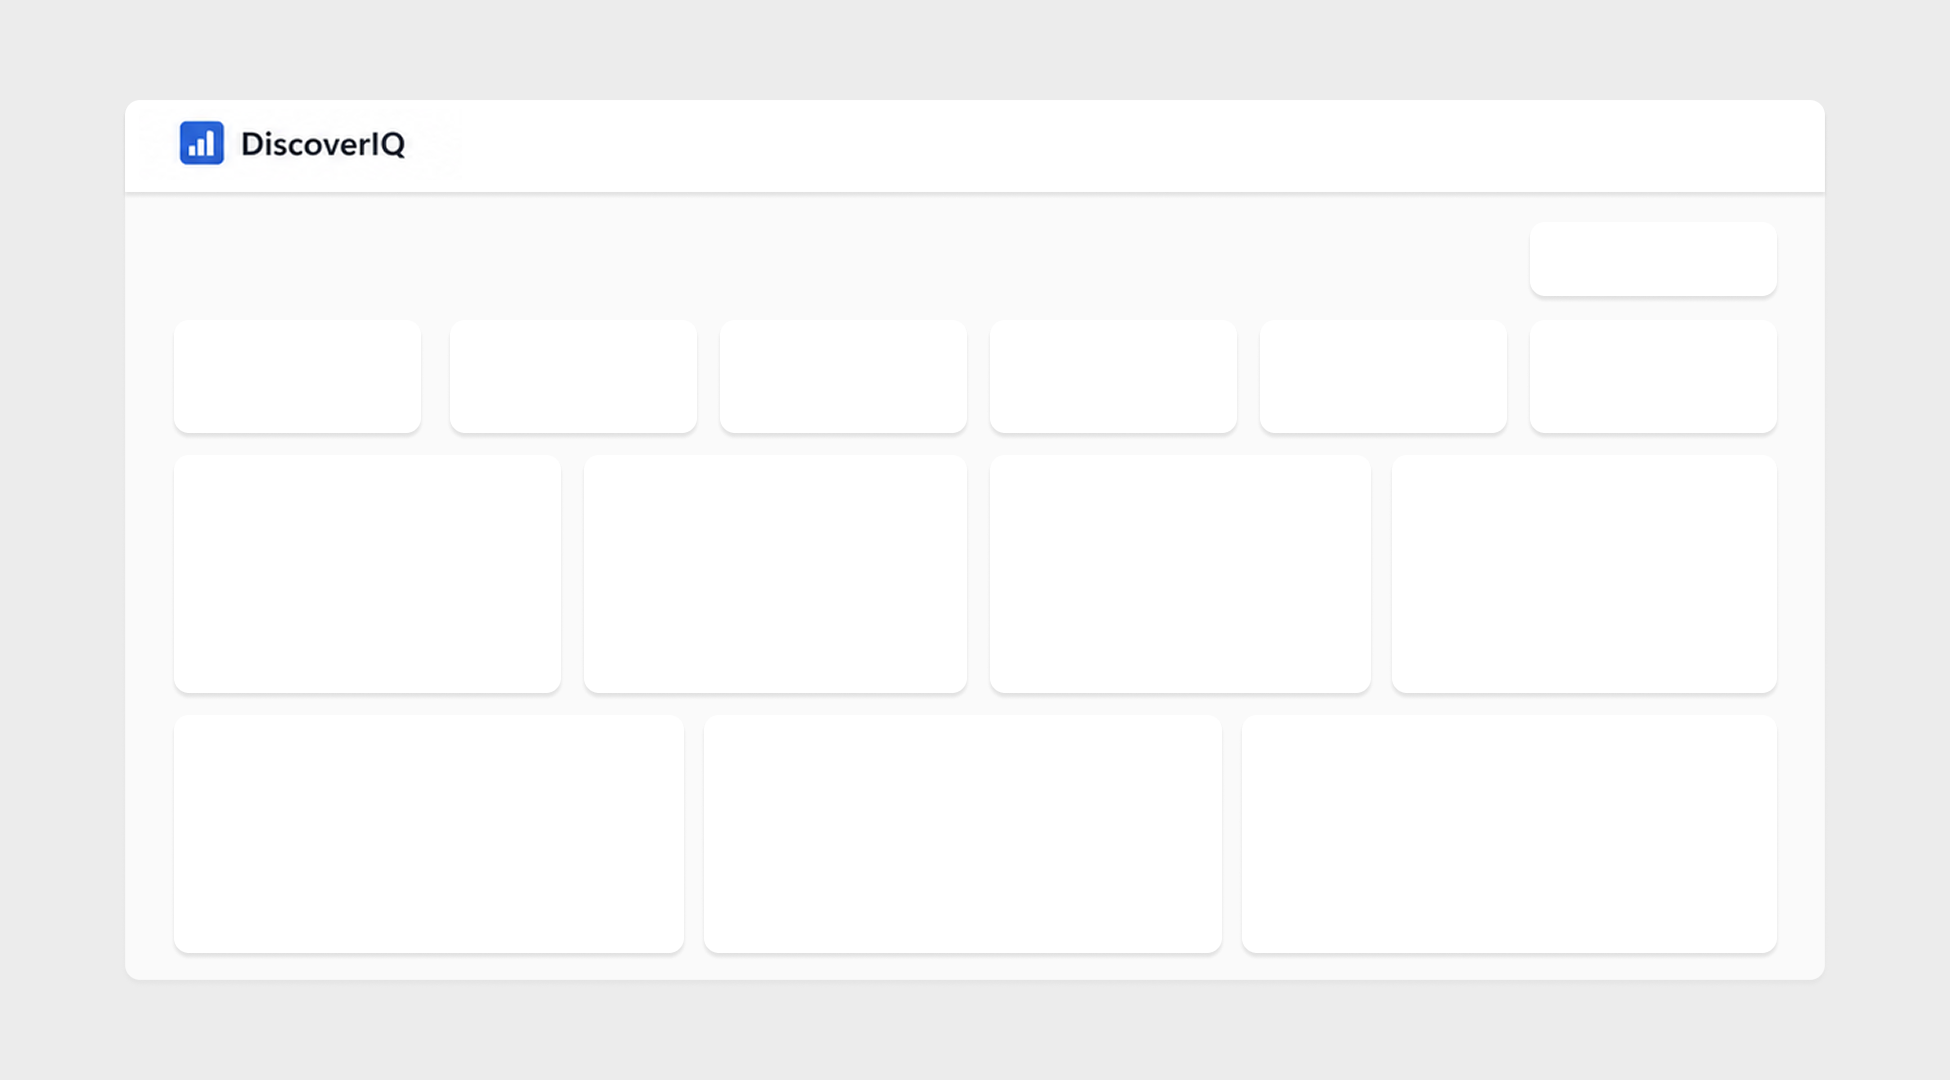

The page's visual inventory and layout, read from the dashboard file:
{"tool":"powerbi","page":{"name":"Home Page","canvas":[1920,1080],"ordinal":0},"visuals":[{"type":"actionButton","box":[124.4,296.7,212.2,55.6],"z":0},{"type":"actionButton","box":[124.4,373.3,212.2,55.6],"z":1},{"type":"actionButton","box":[124.4,452.8,212.2,55.6],"z":2},{"type":"actionButton","box":[124.4,527.8,212.2,55.6],"z":3},{"type":"actionButton","box":[124.4,612.2,212.2,55.6],"z":4}]}

Visuals, with their boxes in screenshot pixels (x1, y1, x2, y2), scaled from the page's 1920x1080 canvas onto the 1950x1080 screenshot:
actionButton: box(126, 297, 342, 352)
actionButton: box(126, 373, 342, 429)
actionButton: box(126, 453, 342, 508)
actionButton: box(126, 528, 342, 583)
actionButton: box(126, 612, 342, 668)
